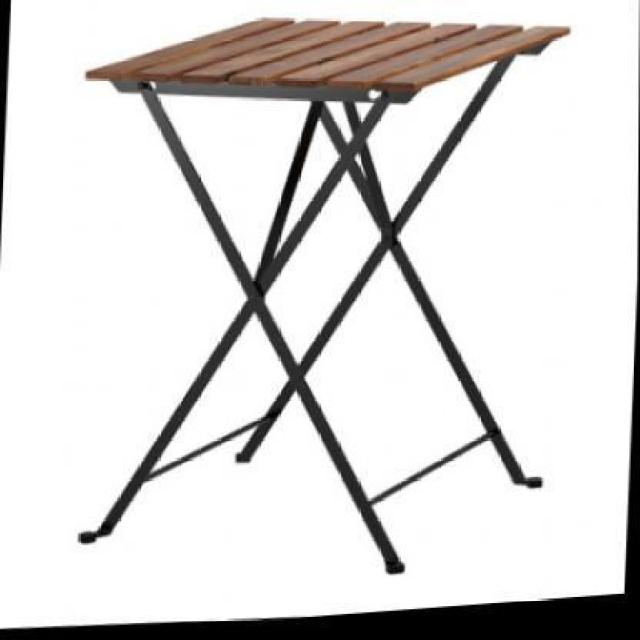tables: (77, 14, 571, 574)
